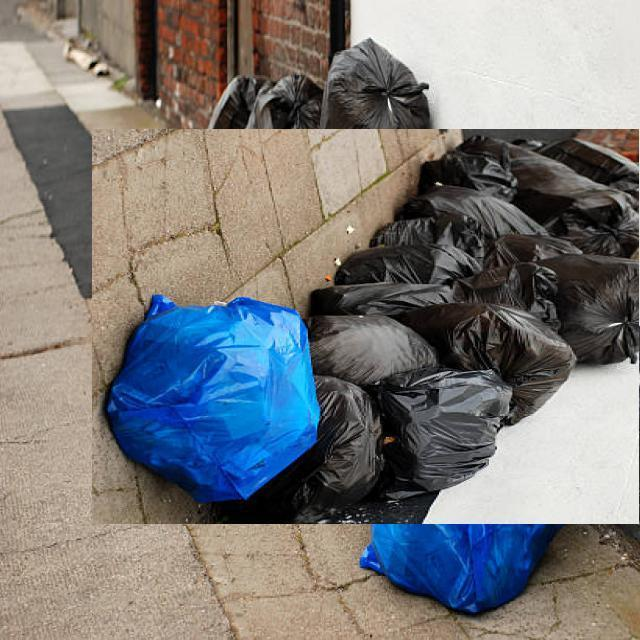Trashbag: (305, 246, 556, 320), (281, 379, 382, 512), (396, 369, 495, 499), (318, 33, 435, 143), (362, 190, 549, 256), (307, 307, 427, 389), (560, 248, 638, 373), (487, 302, 567, 423), (208, 63, 326, 140), (540, 163, 636, 256), (412, 148, 522, 196)
